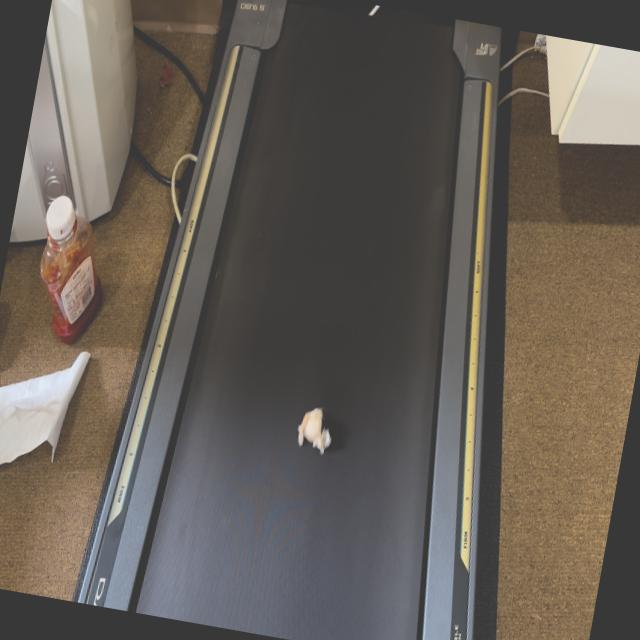Trash: (294, 400, 338, 456)
